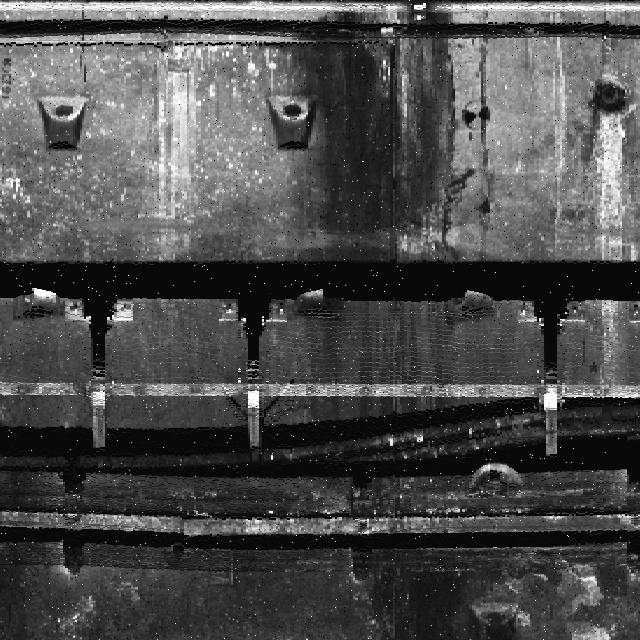leakage: (288, 1, 487, 259), (342, 543, 639, 639), (296, 291, 463, 425)
